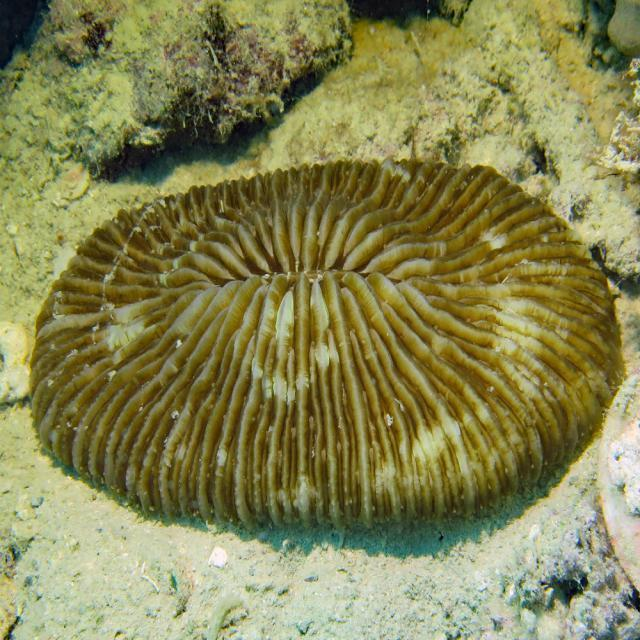Healthy Coral: (30, 148, 627, 543)
